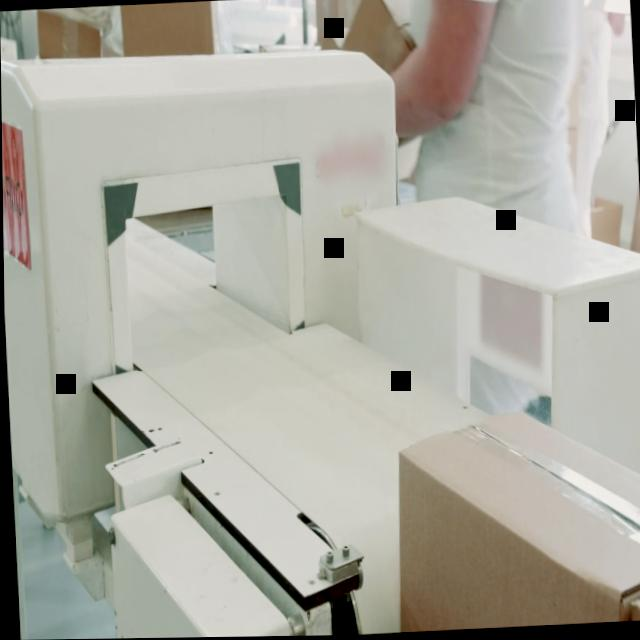box: (388, 407, 640, 633), (626, 584, 640, 622)
